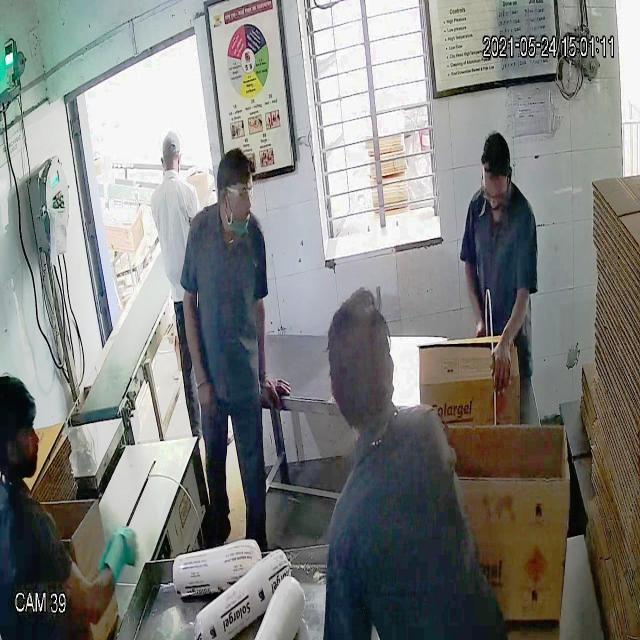glasses: (214, 181, 258, 209)
